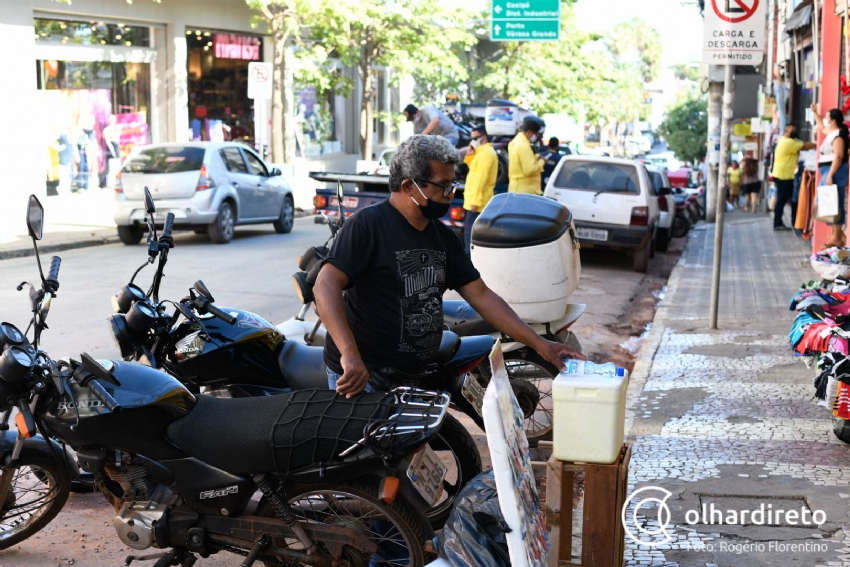mask_weared_incorrect: (401, 153, 460, 224)
